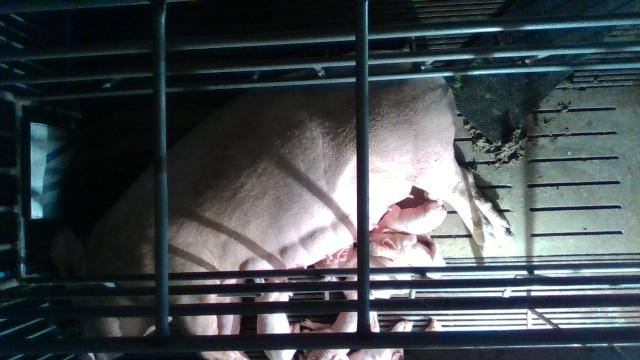piglet: (256, 278, 299, 360), (306, 311, 357, 360), (375, 203, 446, 234)
sow-sleep-lactate: (52, 51, 517, 360)
